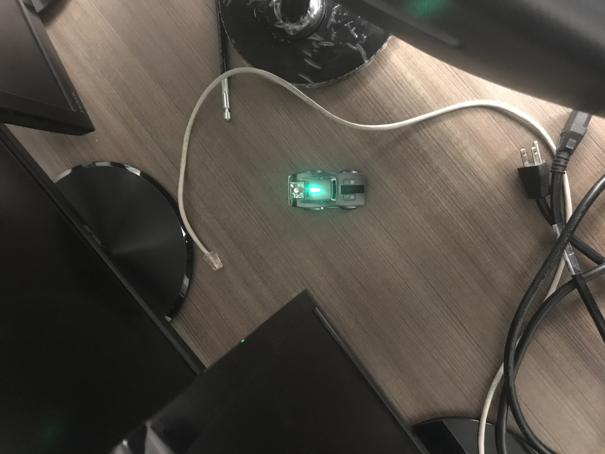Charger: (284, 164, 369, 215)
